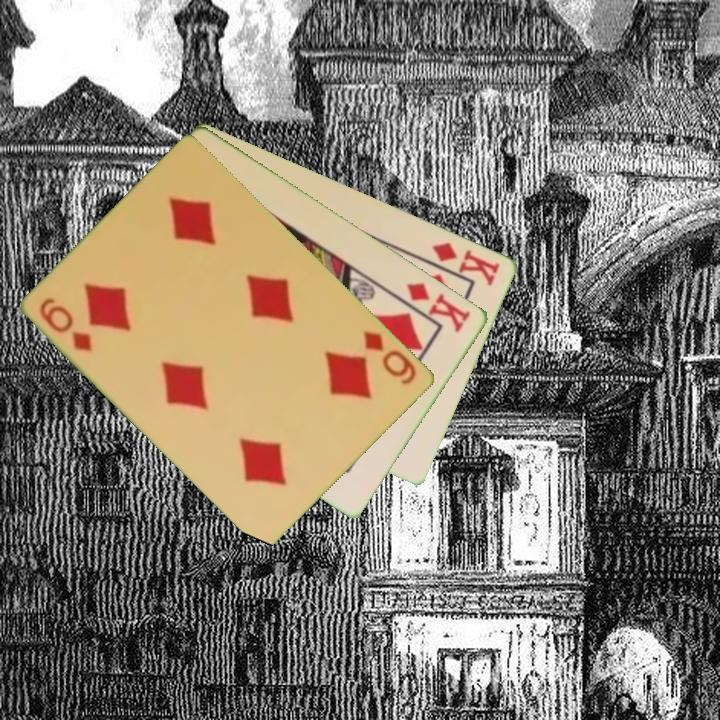6d: (36, 293, 96, 355), (360, 327, 420, 388)
Kd: (403, 278, 474, 336), (429, 238, 503, 289)
